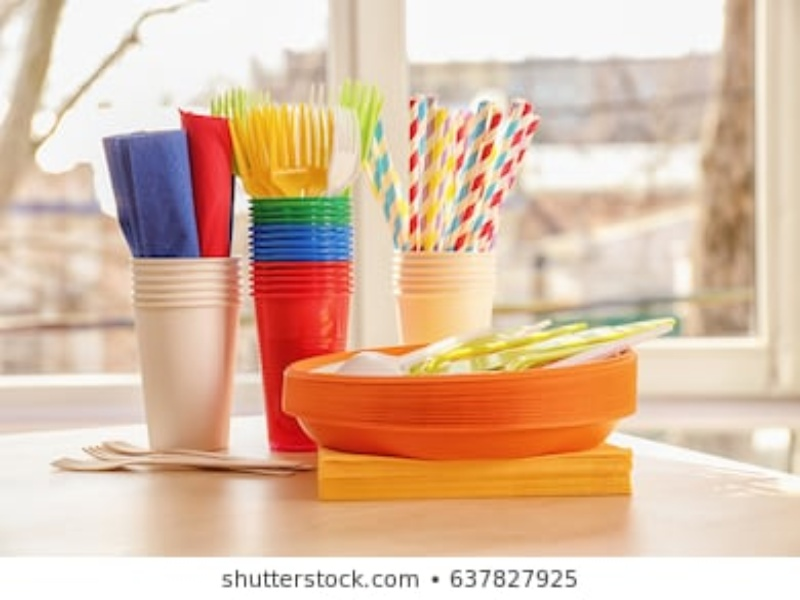plastic-cup: (243, 191, 356, 452), (125, 250, 243, 454), (391, 245, 499, 340)
plastic-plate: (282, 339, 642, 454)
plastic-silverware: (266, 104, 318, 194), (229, 112, 281, 198), (326, 104, 366, 190)
straw: (468, 94, 532, 243), (483, 113, 539, 240), (453, 107, 502, 247), (365, 112, 411, 245), (427, 100, 448, 255), (406, 95, 424, 244)
